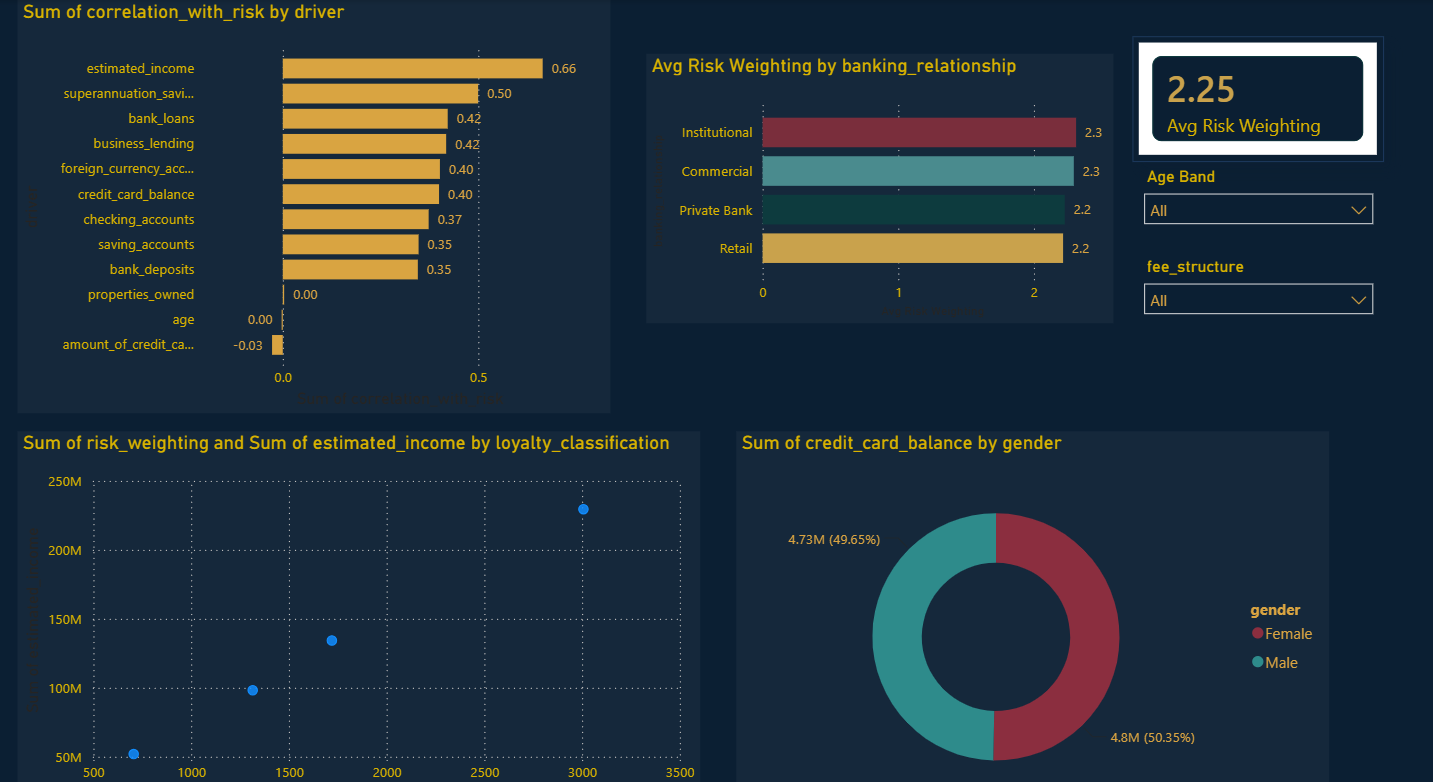

The dashboard page shown, as its layout file describes it:
{"tool":"powerbi","page":{"name":"Page 4","canvas":[1280,720],"ordinal":3},"visuals":[{"type":"clusteredBarChart","fields":{"Category":["risk_correlations.driver"],"Y":["Sum(risk_correlations.correlation_with_risk)"]},"box":[16,0,528,368],"z":0},{"type":"cardVisual","fields":{"Data":["banking_clients.Avg Risk Weighting"]},"box":[1008,32,224,112],"z":1000},{"type":"scatterChart","fields":{"X":["Sum(banking_clients.risk_weighting)"],"Y":["Sum(banking_clients.estimated_income)"],"Category":["banking_clients.loyalty_classification"]},"box":[16,384,608,336],"z":2000},{"type":"barChart","fields":{"Y":["banking_clients.Avg Risk Weighting"],"Category":["banking_clients.banking_relationship"]},"box":[576,48,416,240],"z":3000},{"type":"donutChart","fields":{"Y":["Sum(banking_clients.credit_card_balance)"],"Category":["banking_clients.gender"]},"box":[656,384,528,336],"z":4000},{"type":"slicer","fields":{"Values":["banking_clients.Age Band"]},"box":[1008,144,224,64],"z":5000},{"type":"slicer","fields":{"Values":["banking_clients.fee_structure"]},"box":[1008,224,224,64],"z":6000}]}

Visuals, with their boxes on the page's 1280x720 design canvas (x1, y1, x2, y2). These are canvas units, not pixel positions in the 1433x782 screenshot, which may show the page scaled, cropped or inside an application window:
clusteredBarChart - risk_correlations.driver x Sum(risk_correlations.correlation_with_risk): [16, 0, 544, 368]
cardVisual - banking_clients.Avg Risk Weighting: [1008, 32, 1232, 144]
scatterChart - Sum(banking_clients.risk_weighting) x Sum(banking_clients.estimated_income): [16, 384, 624, 720]
barChart - banking_clients.Avg Risk Weighting x banking_clients.banking_relationship: [576, 48, 992, 288]
donutChart - Sum(banking_clients.credit_card_balance) x banking_clients.gender: [656, 384, 1184, 720]
slicer - banking_clients.Age Band: [1008, 144, 1232, 208]
slicer - banking_clients.fee_structure: [1008, 224, 1232, 288]
